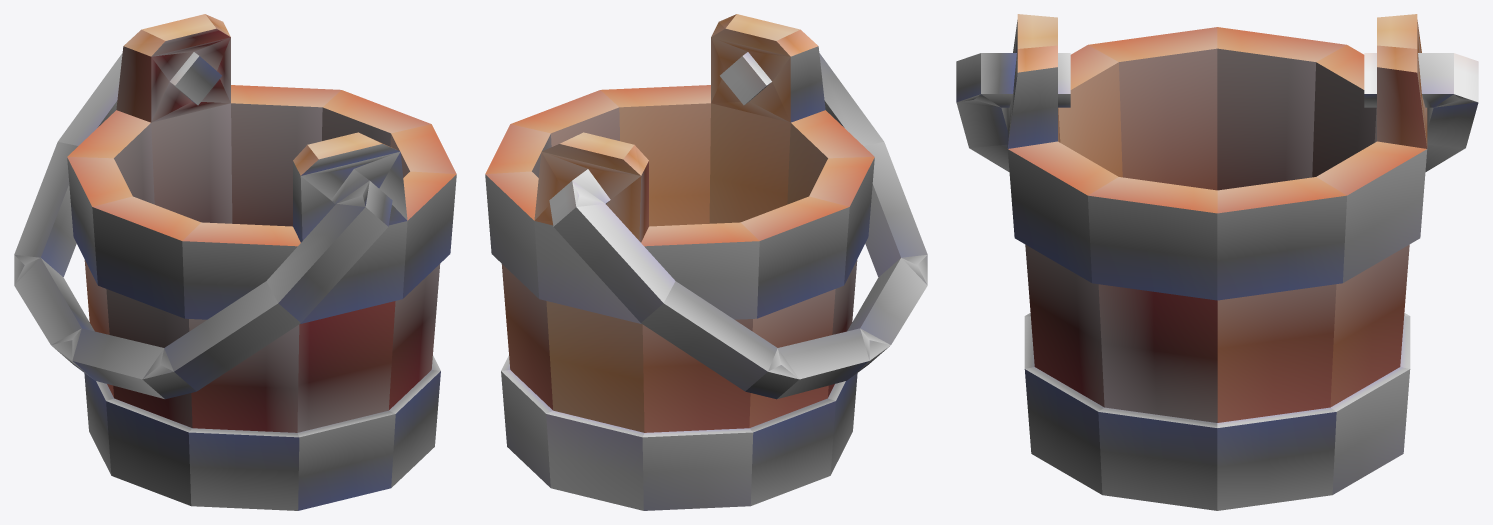
The model's file is bucket.fbx.
The picture shows the model from 3 angles, left to right: view 1: azimuth 30°, elevation 25°; view 2: azimuth 150°, elevation 25°; view 3: azimuth 270°, elevation 25°; orthographic projection. The views are drawn at different scales.
Visible parts, largest first — view 1: bucket; view 2: bucket; view 3: bucket.
Boxes of the visible parts, x1,y1,x2,y2 form: bucket: (14, 14, 456, 510); bucket: (485, 14, 927, 510); bucket: (956, 14, 1478, 510).
Size of the model in its own units: 96.13 by 87.49 by 104.
